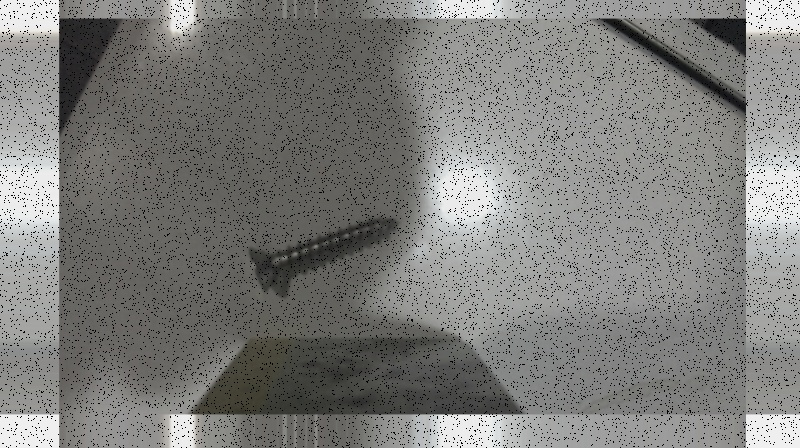S001: (245, 215, 401, 295)
